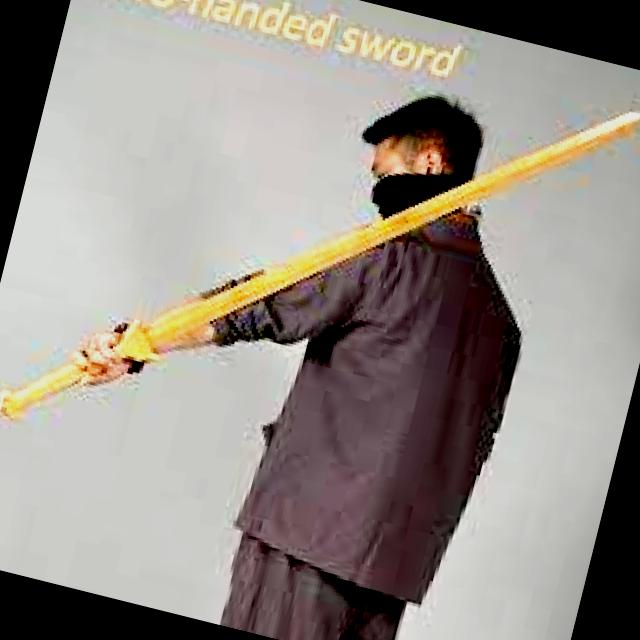long sword: (0, 0, 640, 554)
